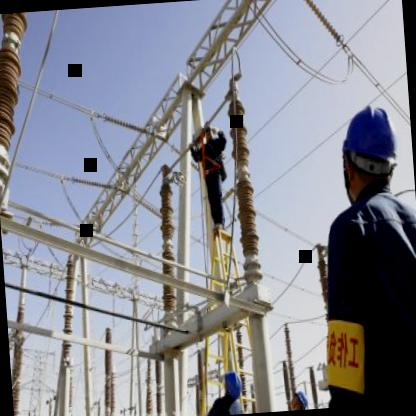helmet: (334, 98, 406, 212), (219, 369, 244, 405), (286, 388, 310, 410)
